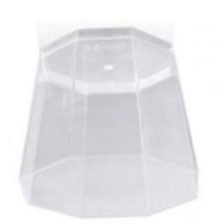glass: (14, 21, 204, 222)
